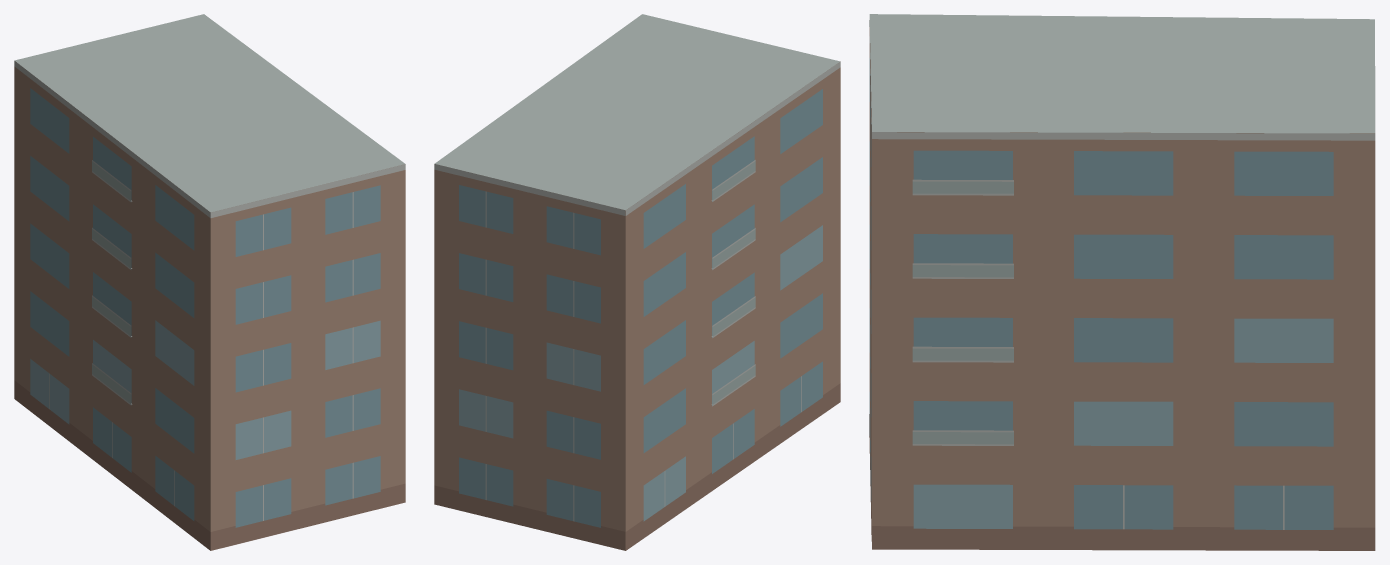
File: survey-upis-33036478.glb
3 renders of one model, left to right at view 1: azimuth 30°, elevation 25°; view 2: azimuth 150°, elevation 25°; view 3: azimuth 270°, elevation 25°, orthographic. The views are drawn at different scales.
Visible parts, largest first — view 1: survey-upis-33036478.tmp; view 2: survey-upis-33036478.tmp; view 3: survey-upis-33036478.tmp.
Part boxes in pixels (x1,y1,x2,y2): survey-upis-33036478.tmp: (14, 14, 405, 550); survey-upis-33036478.tmp: (434, 14, 840, 550); survey-upis-33036478.tmp: (869, 14, 1375, 550).
Bounding box in the file's own units: 8.72 × 14.2 × 15.61.
